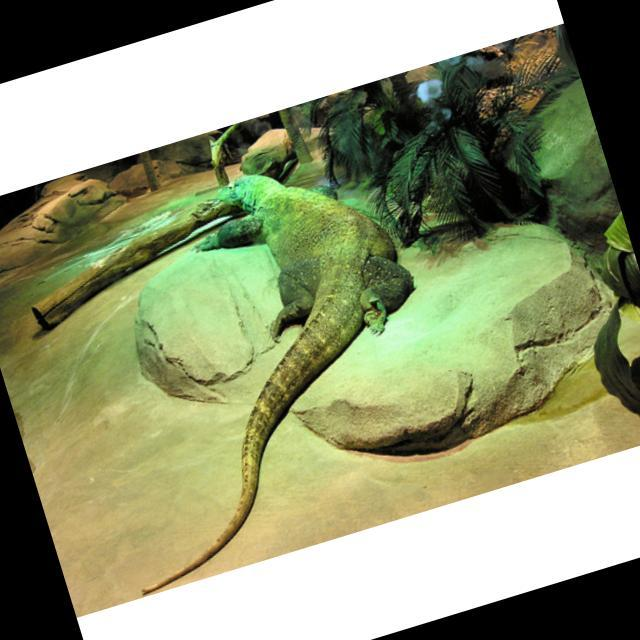KomodoDragon: (33, 133, 483, 593)
